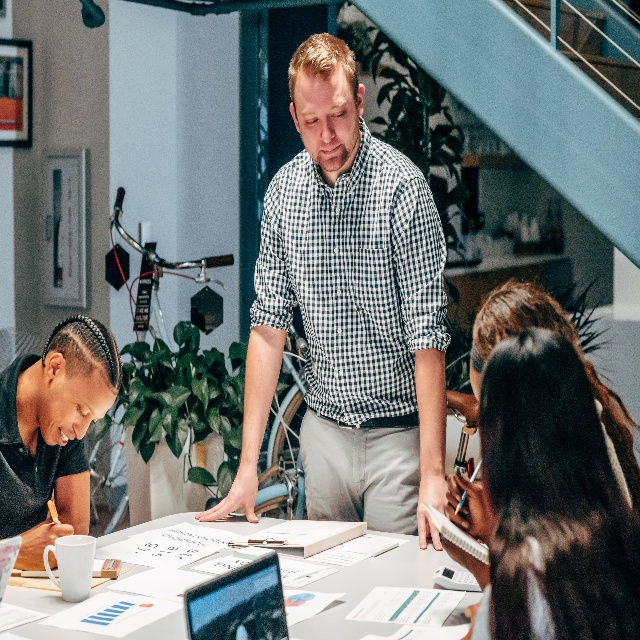Sin_guantes: (194, 468, 261, 526), (13, 517, 75, 573), (444, 468, 489, 538), (416, 470, 452, 553)
